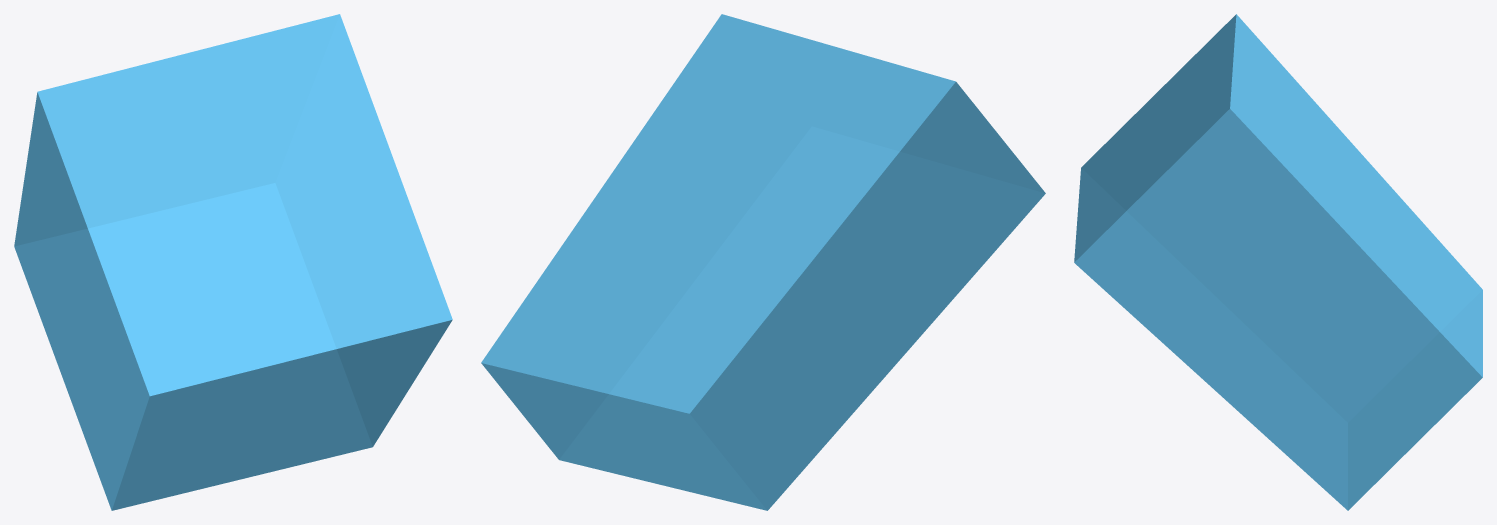
File: Event_420094457_HBrechit_7.fbx
3 views of the same model, side by side, from view 1: azimuth 30°, elevation 25°; view 2: azimuth 150°, elevation 25°; view 3: azimuth 270°, elevation 25° (orthographic). The views are drawn at different scales.
Visible parts, largest first — view 1: Model; view 2: Model; view 3: Model.
Boxes of the visible parts, box(x1,y1,x2,y2) form: Model: box(14, 14, 452, 510); Model: box(481, 14, 1045, 510); Model: box(1074, 14, 1482, 510).
Size of the model in its own units: 0.6685 by 0.8051 by 0.8227.
